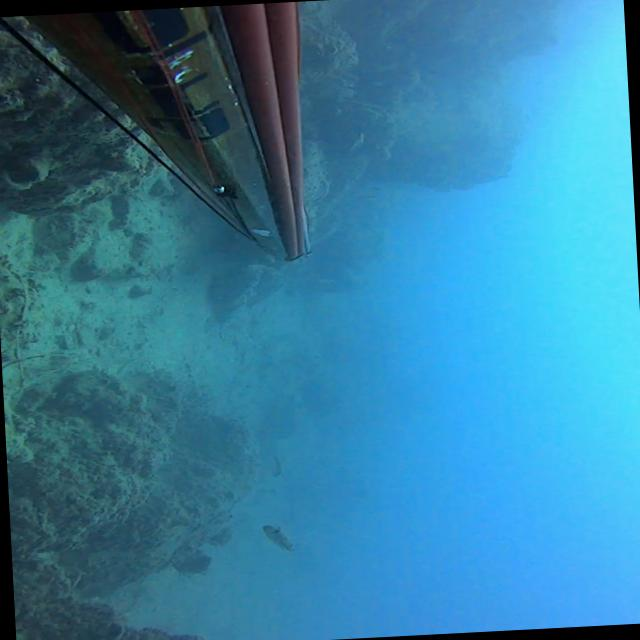Balon Baligi: (262, 522, 300, 552), (349, 132, 366, 150), (272, 454, 282, 476)
